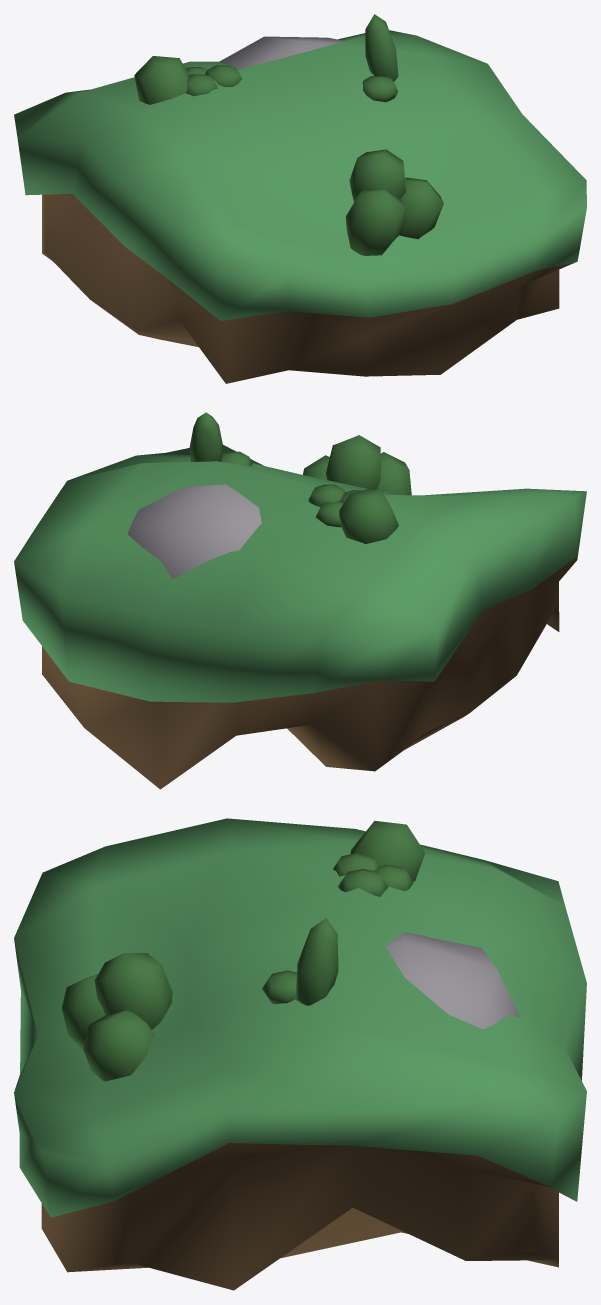
File: island03.fbx
3 renders of one model, top to bottom at view 1: azimuth 30°, elevation 25°; view 2: azimuth 150°, elevation 25°; view 3: azimuth 270°, elevation 25°, orthographic. The views are drawn at different scales.
Visible parts, largest first — view 1: island03; view 2: island03; view 3: island03.
Part boxes in pixels (x1,y1,x2,y2): island03: (14, 14, 586, 383); island03: (14, 412, 586, 789); island03: (14, 818, 586, 1290).
Bounding box in the file's own units: 5542 × 3849 × 5163.
